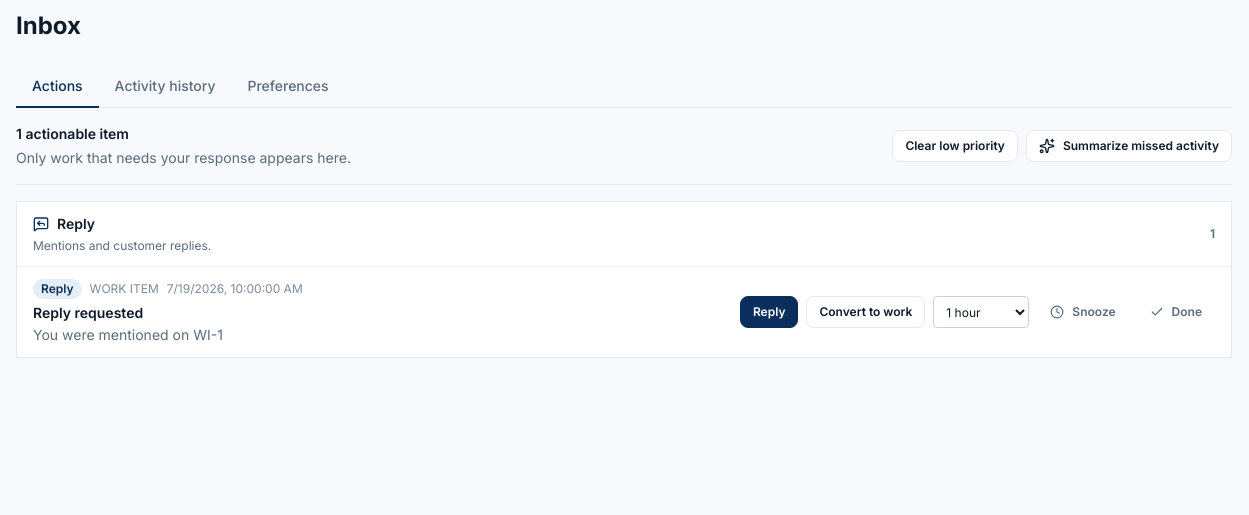
Test: NotificationsView › shows a governed summary and its source links
Click the button "Summarize missed activity": (1129, 146) [1026, 130, 1232, 162]
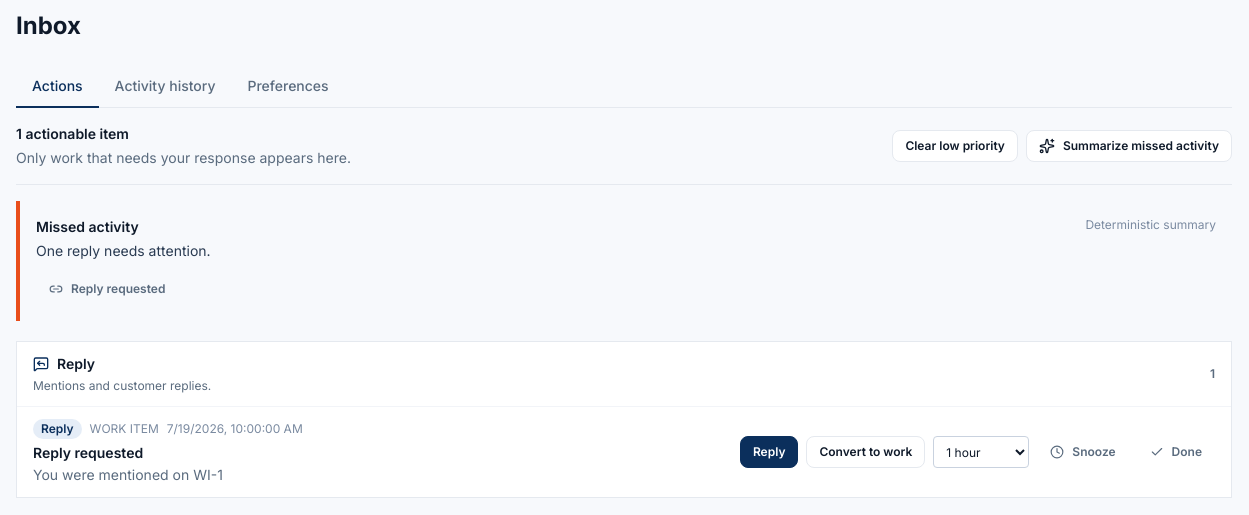
expect the text "One reply needs attention." is shown: met, box [36, 241, 211, 261]
expect the text "Deterministic summary" is shown: met, box [1085, 217, 1216, 233]
expect the button "Reply requested" is shown: met, box [36, 273, 178, 305]
